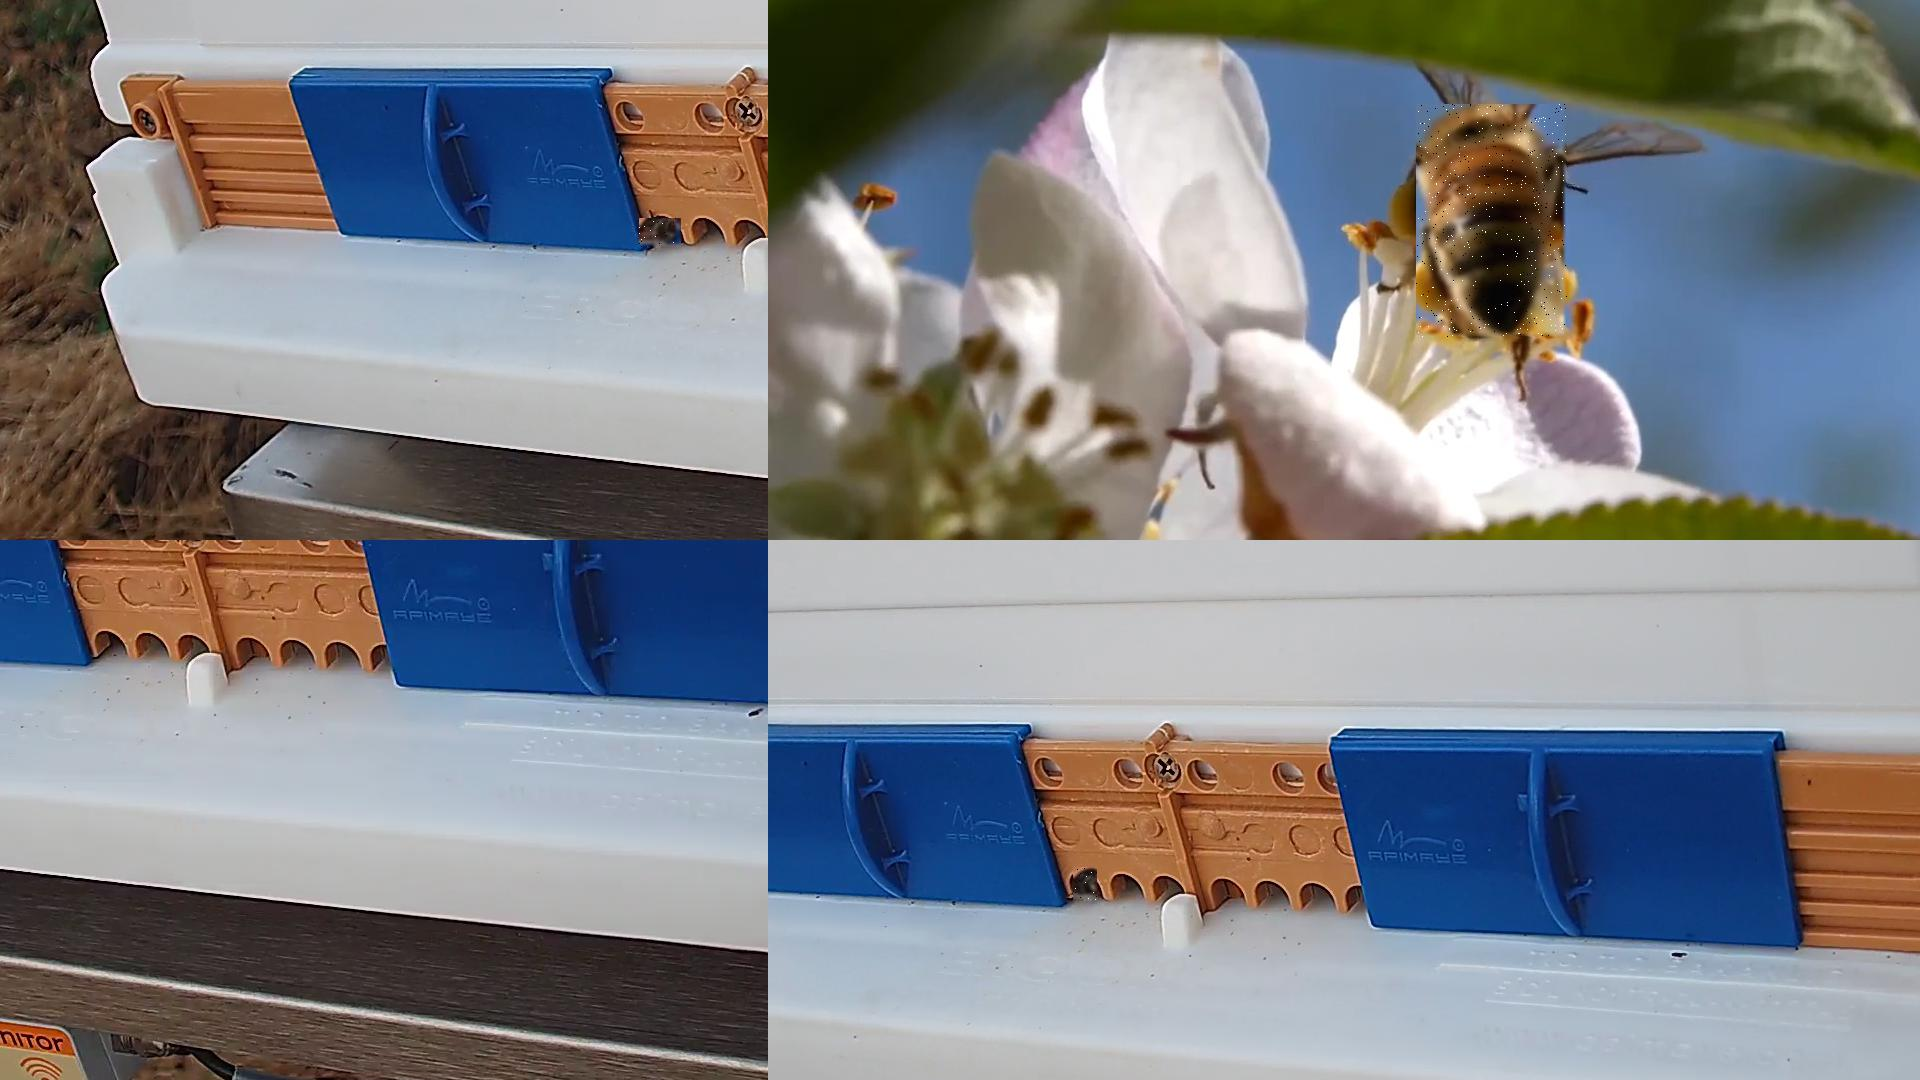bee: (640, 219, 682, 249), (1073, 868, 1098, 902)
pollenbee: (1416, 104, 1569, 339)
